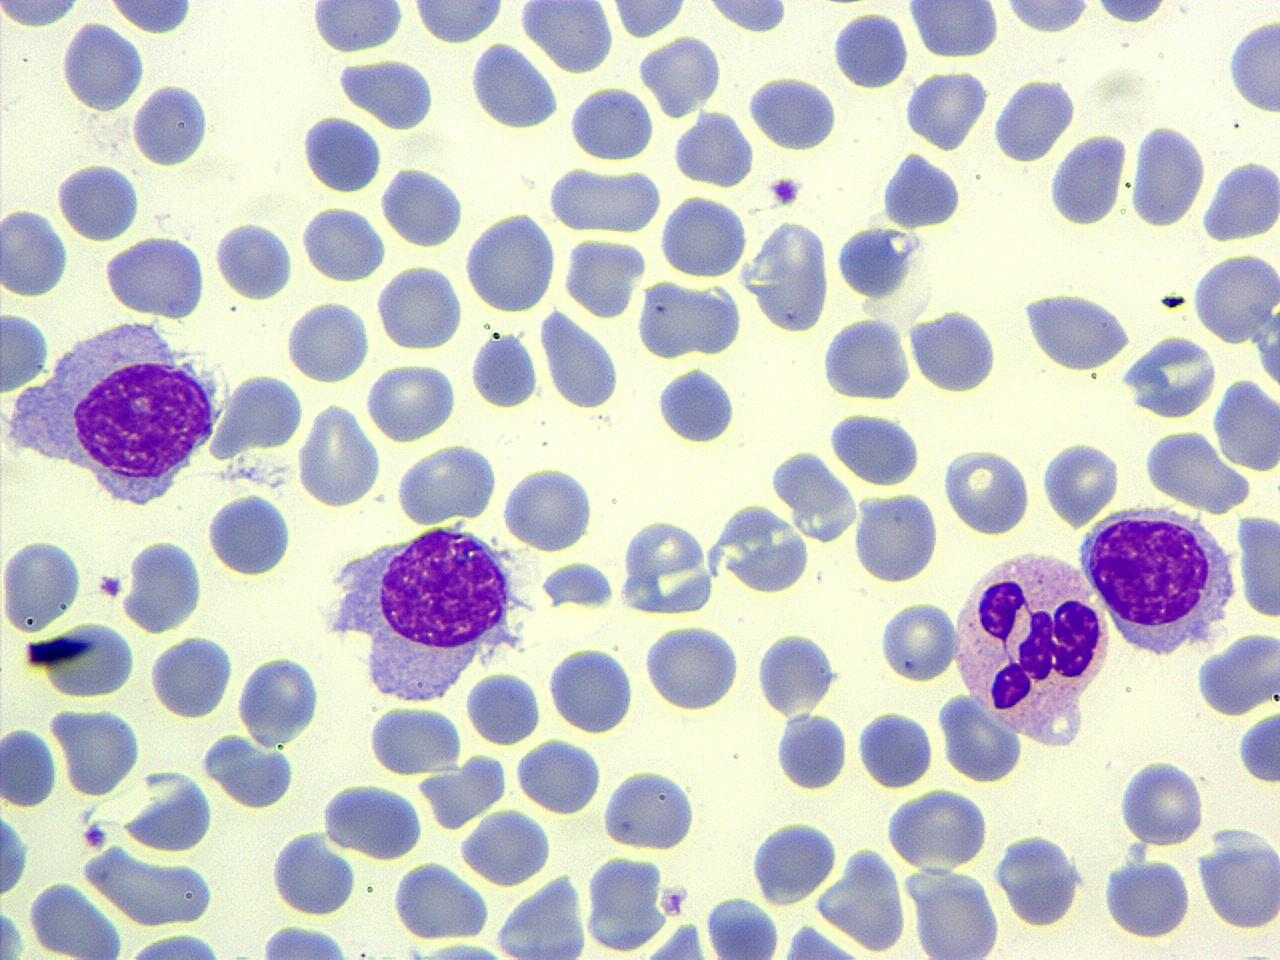Platelets: (538, 558, 619, 609), (0, 806, 31, 905), (0, 906, 26, 960), (767, 174, 805, 209), (82, 820, 111, 852), (96, 572, 125, 600), (405, 944, 424, 960)
RBC: (703, 502, 814, 597), (463, 208, 560, 314), (747, 215, 833, 335), (616, 516, 718, 616), (814, 846, 908, 954), (882, 786, 992, 874), (990, 833, 1087, 932), (580, 852, 672, 956), (102, 232, 209, 322), (295, 402, 382, 510), (50, 704, 146, 800), (642, 621, 743, 712), (1195, 826, 1280, 932), (394, 442, 500, 526), (321, 779, 428, 862), (1121, 331, 1221, 419), (852, 488, 943, 584), (500, 461, 596, 552), (1046, 128, 1130, 230), (36, 618, 137, 702), (58, 19, 147, 114), (388, 861, 492, 942), (375, 260, 466, 352), (546, 644, 636, 737), (121, 536, 206, 634), (1115, 757, 1205, 848), (205, 488, 294, 580), (912, 870, 1004, 960), (942, 445, 1032, 536), (820, 314, 913, 402), (657, 192, 750, 280), (0, 537, 84, 635), (457, 805, 555, 887), (907, 307, 1000, 394), (936, 692, 1023, 786), (236, 652, 321, 748), (1128, 122, 1204, 228), (198, 732, 299, 812), (122, 768, 216, 854), (1102, 852, 1190, 942), (364, 360, 459, 444), (269, 829, 359, 916), (748, 818, 838, 905), (25, 880, 125, 958), (752, 630, 840, 718), (286, 296, 372, 386), (546, 166, 661, 233), (827, 408, 923, 488), (902, 66, 990, 152), (148, 632, 234, 721), (518, 0, 616, 78), (746, 73, 840, 152), (1040, 437, 1120, 530), (379, 163, 466, 249), (636, 33, 724, 118), (512, 736, 603, 818), (53, 160, 144, 242), (560, 234, 645, 320), (367, 702, 463, 777), (565, 84, 657, 162), (300, 202, 386, 284), (212, 218, 293, 303), (830, 7, 912, 92), (1211, 373, 1280, 474), (878, 600, 958, 686), (0, 204, 71, 299), (672, 108, 756, 189), (773, 708, 850, 794), (854, 708, 935, 788), (463, 668, 540, 748), (468, 331, 540, 410), (307, 0, 408, 55), (907, 1, 1000, 61), (636, 278, 699, 357), (703, 895, 782, 959), (1, 724, 58, 810), (1235, 512, 1279, 623), (0, 308, 50, 398), (408, 1, 510, 45), (998, 0, 1096, 40), (1235, 706, 1279, 788), (776, 922, 868, 960), (697, 0, 793, 35), (606, 0, 692, 38), (104, 0, 194, 36)
WBC: (0, 314, 226, 515), (322, 520, 527, 708), (948, 544, 1114, 752), (1078, 501, 1240, 659), (706, 499, 814, 600), (744, 216, 833, 334), (1017, 287, 1135, 373), (104, 231, 213, 323), (465, 209, 560, 310), (992, 830, 1086, 930), (582, 852, 671, 956), (1196, 823, 1280, 934), (49, 703, 146, 799), (538, 305, 624, 411), (396, 443, 500, 530), (1192, 244, 1280, 347), (468, 38, 562, 132), (544, 641, 636, 738), (600, 766, 700, 854), (34, 617, 138, 702), (1129, 120, 1207, 231), (118, 766, 215, 856), (491, 870, 590, 958), (820, 312, 913, 404), (204, 488, 296, 581), (907, 304, 999, 397), (58, 19, 148, 115), (1120, 332, 1218, 419), (749, 814, 838, 910), (390, 859, 491, 943), (322, 782, 427, 860), (458, 804, 553, 890), (1046, 129, 1128, 230), (990, 73, 1077, 166), (200, 732, 298, 814), (269, 827, 358, 918), (236, 652, 319, 748), (334, 56, 439, 131), (746, 70, 838, 155), (829, 405, 925, 487), (754, 629, 840, 720), (380, 161, 465, 253), (54, 157, 142, 245), (1194, 628, 1278, 720), (25, 883, 127, 958), (636, 34, 726, 118), (834, 222, 924, 305), (369, 702, 469, 776), (903, 67, 992, 150), (130, 79, 211, 170), (517, 1, 615, 77), (566, 83, 656, 164), (514, 737, 604, 818), (1198, 156, 1278, 245), (214, 218, 295, 304), (301, 111, 383, 196), (654, 362, 736, 446), (878, 150, 963, 231), (856, 706, 934, 790), (774, 708, 850, 794), (1211, 378, 1279, 472), (1224, 11, 1280, 121), (468, 330, 540, 412), (306, 0, 408, 54), (0, 725, 59, 810), (406, 0, 509, 44), (112, 928, 240, 958), (253, 922, 358, 958), (1234, 706, 1280, 788), (606, 0, 692, 39), (998, 0, 1097, 34), (700, 0, 790, 36), (103, 0, 197, 34), (0, 806, 30, 906), (0, 0, 85, 31), (1089, 0, 1172, 28)
